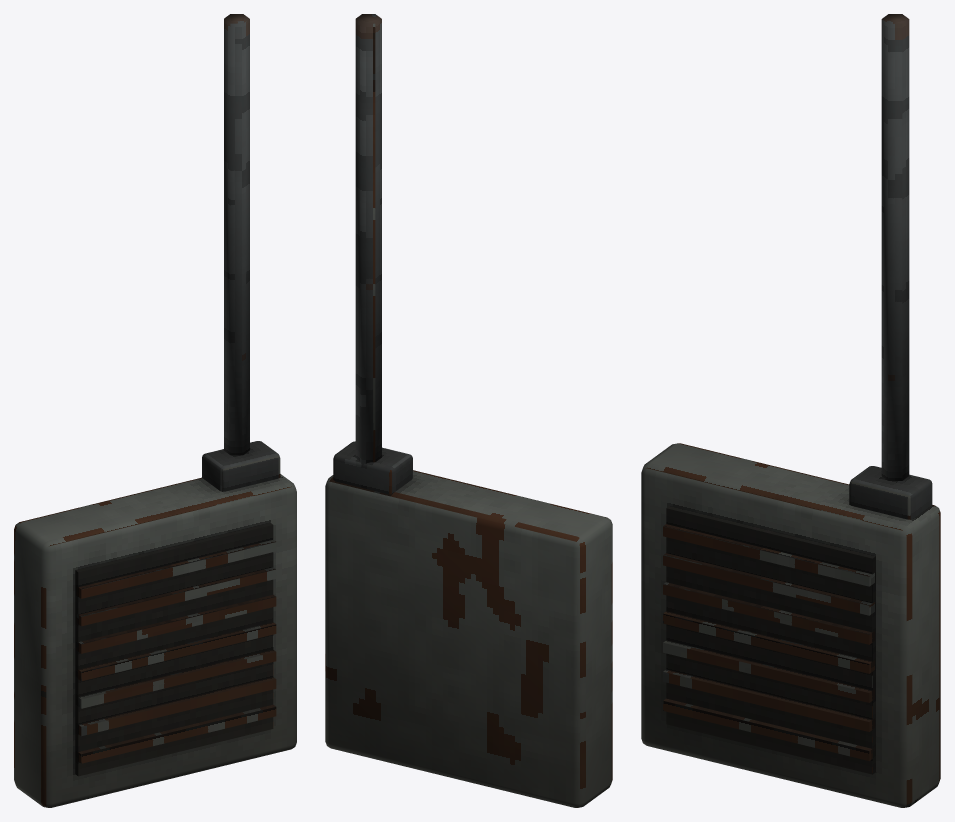
Rendered from speaker.glb.
3 views of the same model, side by side, from view 1: azimuth 30°, elevation 25°; view 2: azimuth 150°, elevation 25°; view 3: azimuth 330°, elevation 25° (orthographic). The views are drawn at different scales.
Visible parts, largest first — view 1: speaker; view 2: speaker; view 3: speaker.
Part boxes in pixels (<box>): speaker: <box>14,14,296,807</box>; speaker: <box>325,14,612,807</box>; speaker: <box>641,14,940,807</box>.
Bounding box in the file's own units: 0.34 × 0.92 × 0.094.
1 material, 1 textured.
